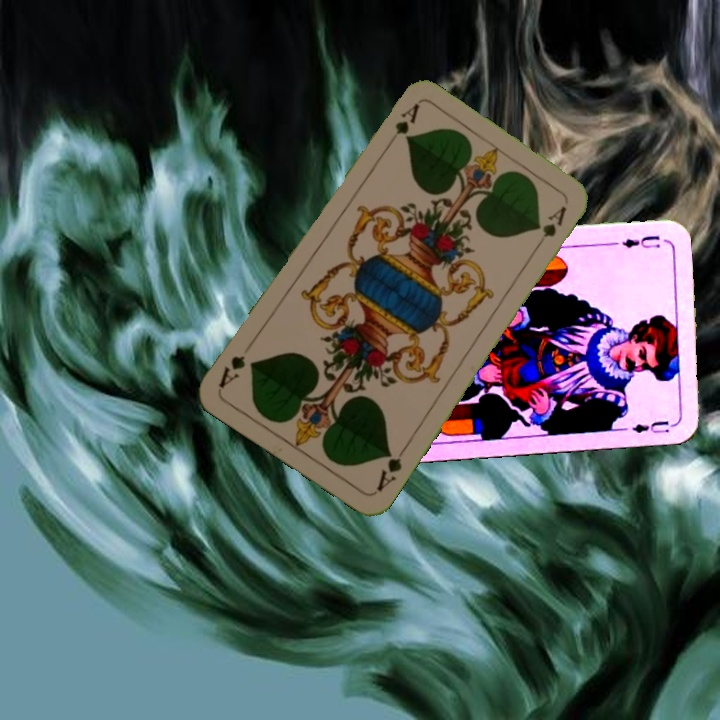EU: (618, 232, 663, 251)
GA: (381, 100, 422, 152), (372, 441, 410, 494)
